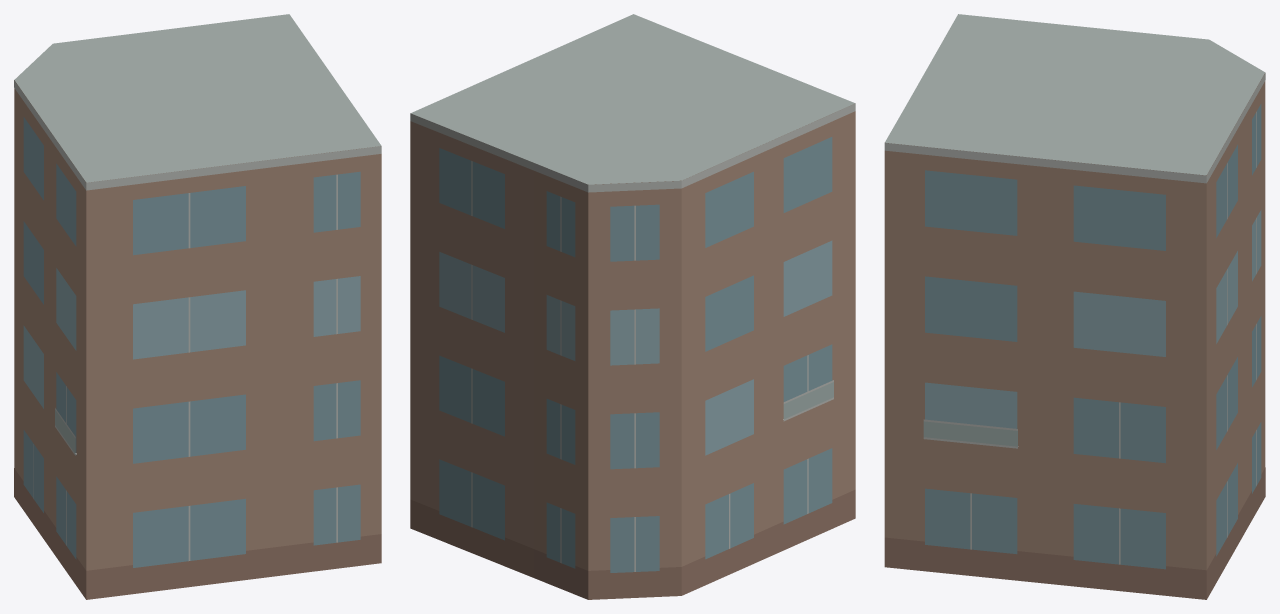
Rendered from survey-upis-32912544.glb.
3 renders of one model, left to right at view 1: azimuth 30°, elevation 25°; view 2: azimuth 150°, elevation 25°; view 3: azimuth 270°, elevation 25°, orthographic. The views are drawn at different scales.
Parts seen in each view (by area): view 1: survey-upis-32912544.tmp; view 2: survey-upis-32912544.tmp; view 3: survey-upis-32912544.tmp.
Boxes of the visible parts, x1,y1,x2,y2 form: survey-upis-32912544.tmp: (14,14,381,599); survey-upis-32912544.tmp: (410,14,855,599); survey-upis-32912544.tmp: (884,14,1265,599).
Size of the model in its own units: 10.61 by 13 by 10.58.
